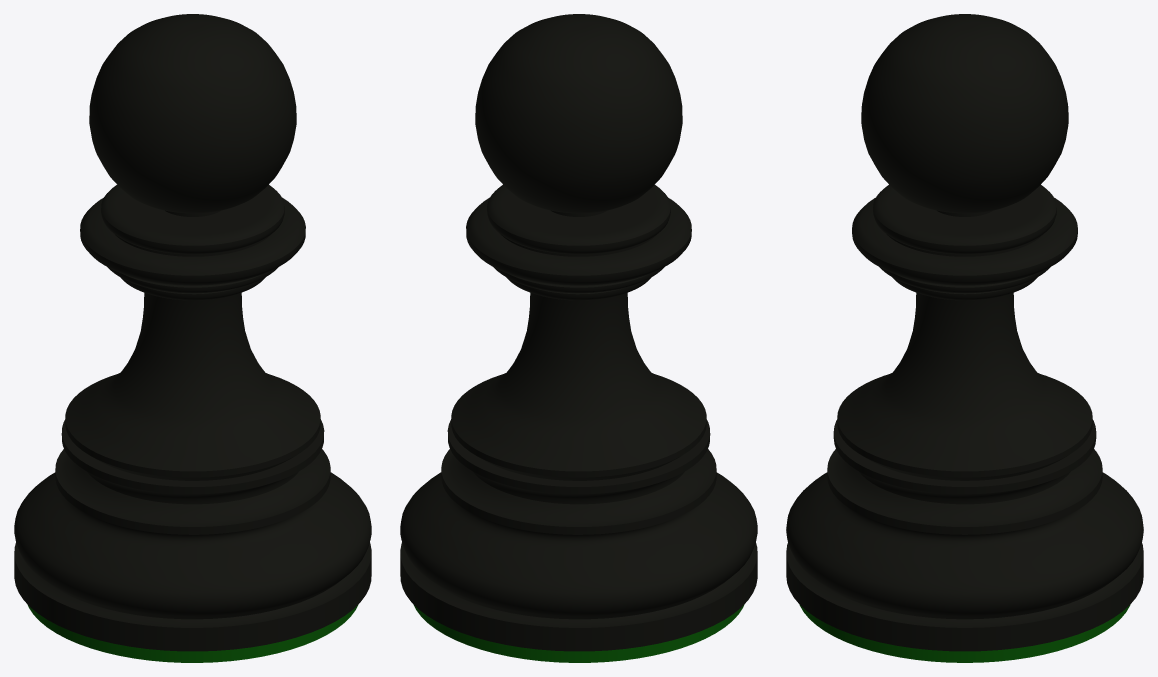
The model's file is uploads_files_1906599_3angulator3000_pawn.fbx.
The picture shows the model from 3 angles, left to right: view 1: azimuth 30°, elevation 25°; view 2: azimuth 150°, elevation 25°; view 3: azimuth 270°, elevation 25°; orthographic projection.
Visible parts, largest first — view 1: pawn; view 2: pawn; view 3: pawn.
Boxes of the visible parts, box(x1,y1,x2,y2) form: pawn: box(14, 14, 371, 662); pawn: box(400, 14, 757, 662); pawn: box(786, 14, 1143, 662).
Bounding box in the file's own units: 130 × 227 × 130.
